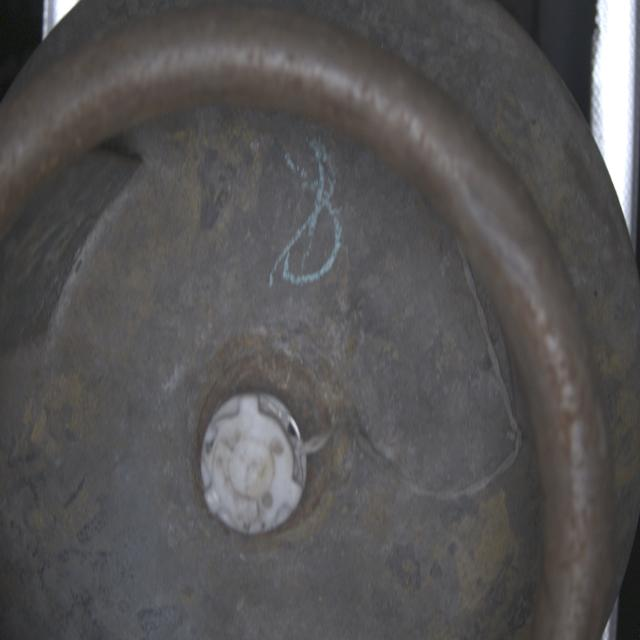Cap: (198, 391, 315, 540)
